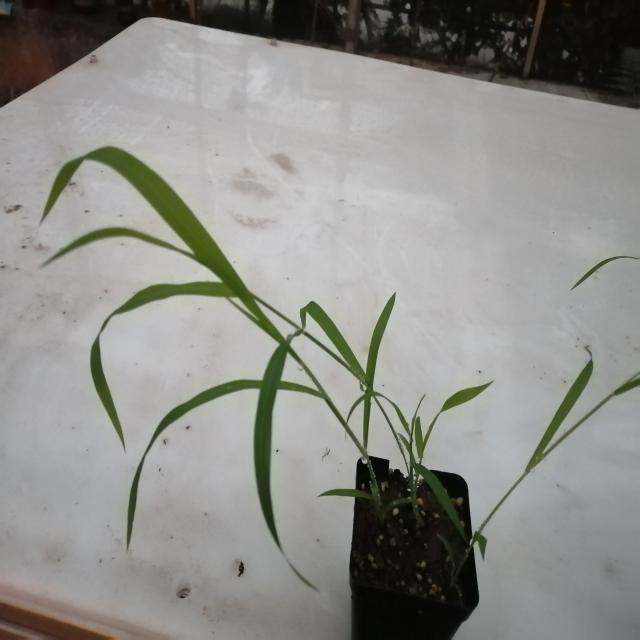crabgrass: (71, 141, 446, 511)
